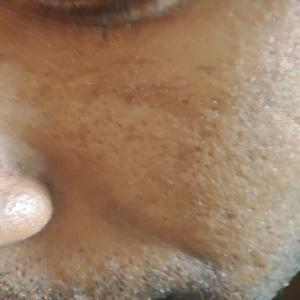Dry-Skin: (72, 67, 300, 258)
